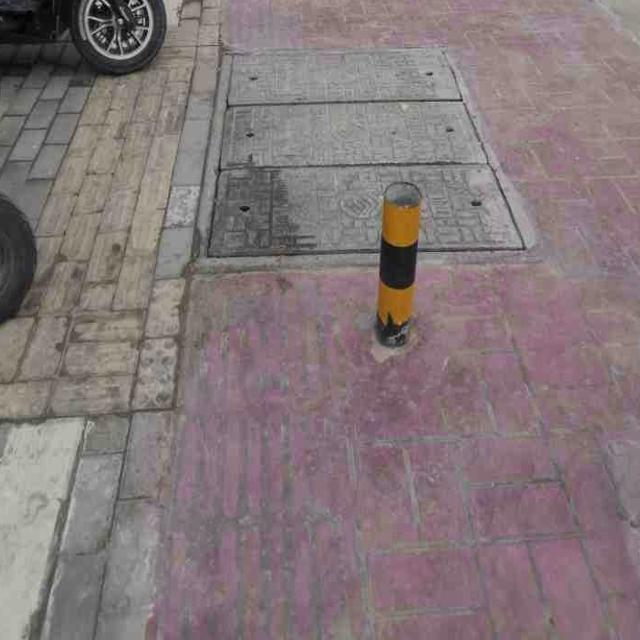good: (197, 31, 522, 251)
